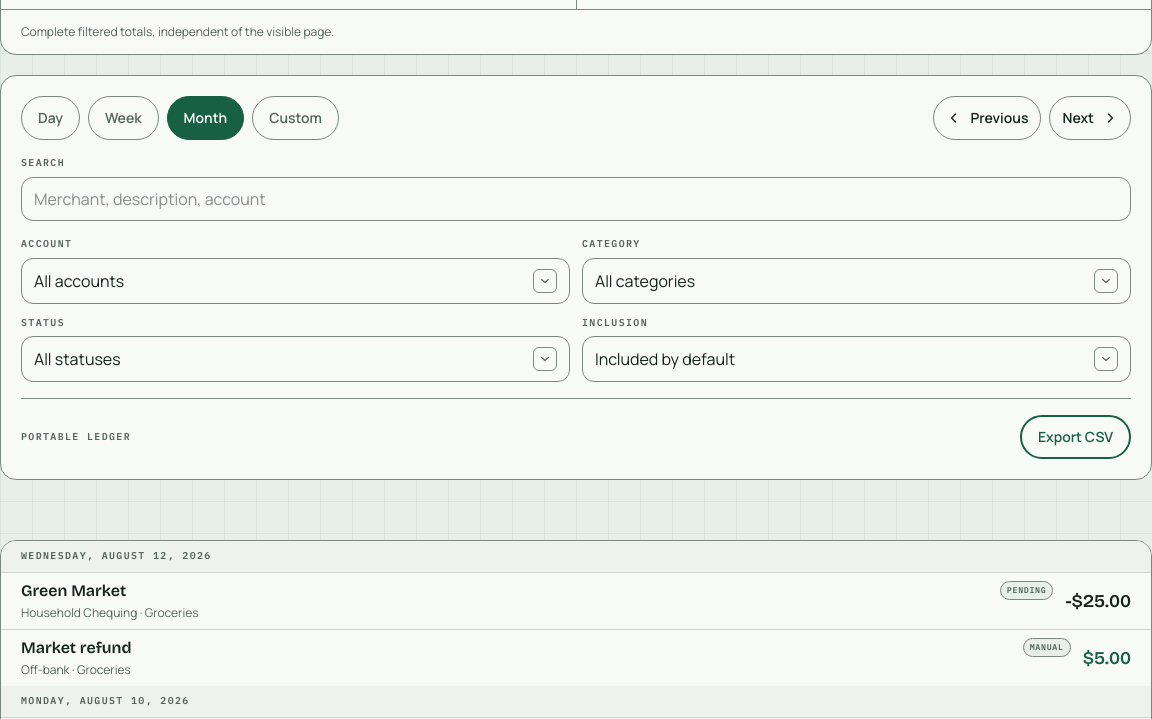
Test: GH-30 transaction explorer › COMP-003 reads totals from the summary rather than the rendered rows
The image size is (1152, 719).
(page scrolled)
Click the dropdown with test id "transactions-status-filter": {"x": 77, "y": 359} 21,336 -> 570,382
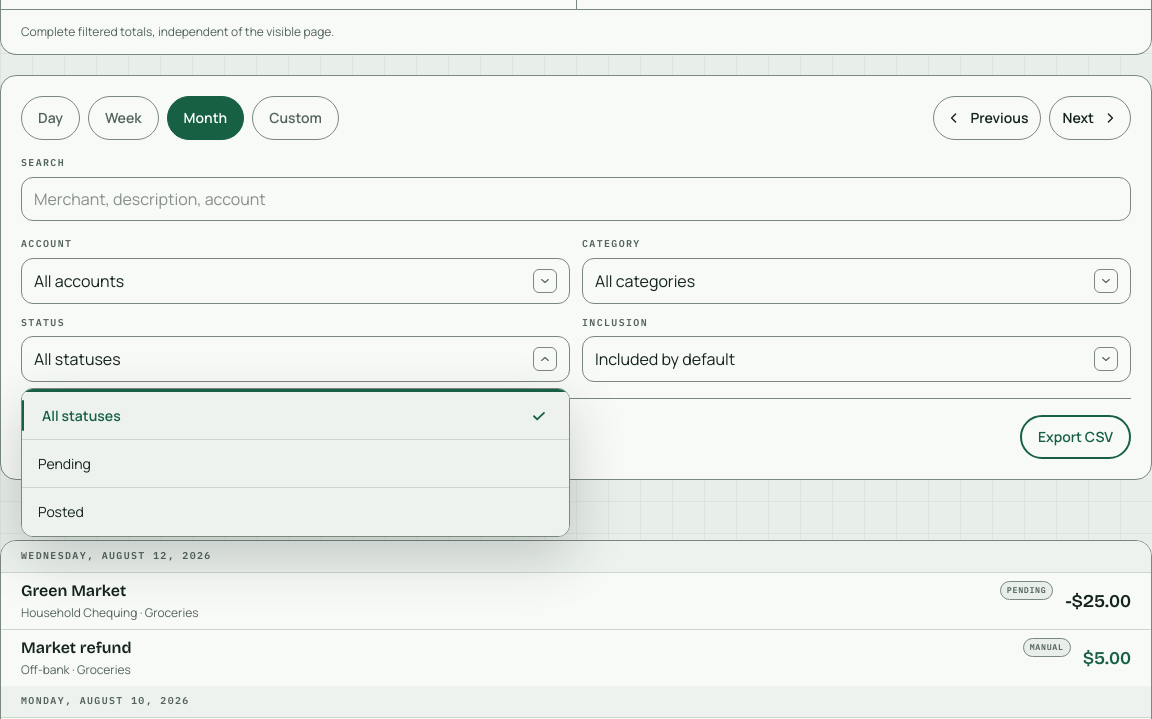
Click the option "Pending": {"x": 64, "y": 463} 22,440 -> 569,488
(page scrolled)
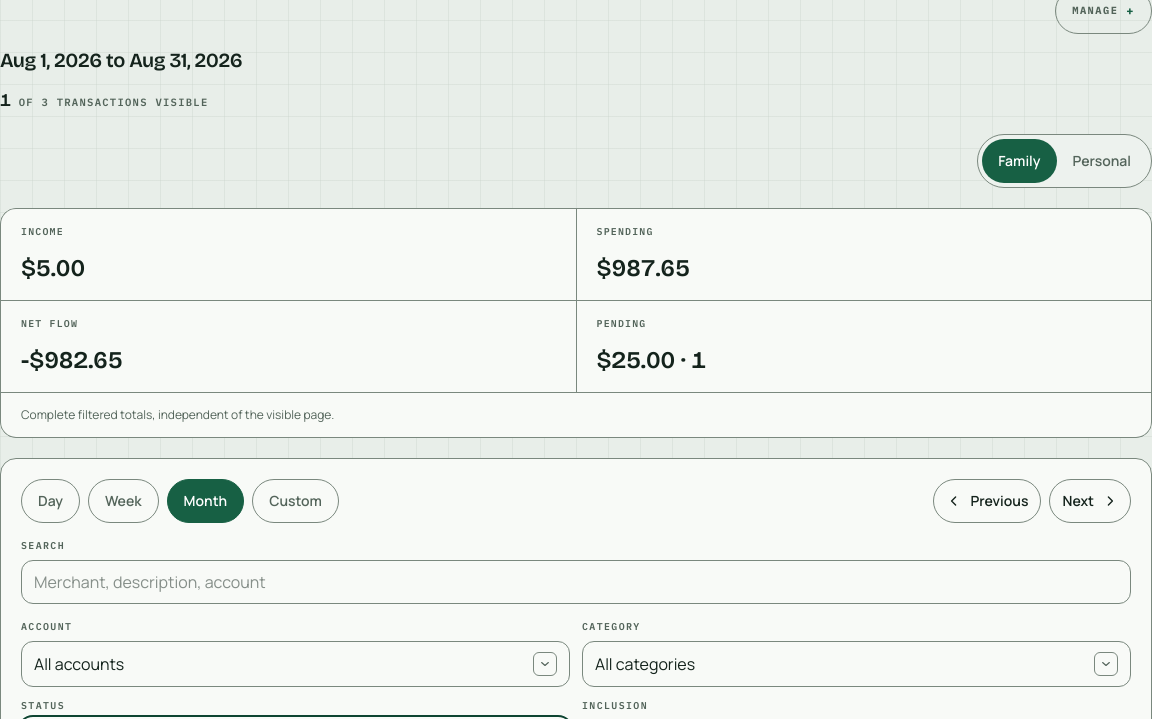
Expected: the text with test id "transactions-summary-spending" shows "987.65", 596,254 -> 690,282
Expected: the text with test id "transactions-summary-income" shows "5.00", 21,254 -> 85,282
Expected: the text with test id "transactions-summary-net" shows "982.65", 21,346 -> 122,374
